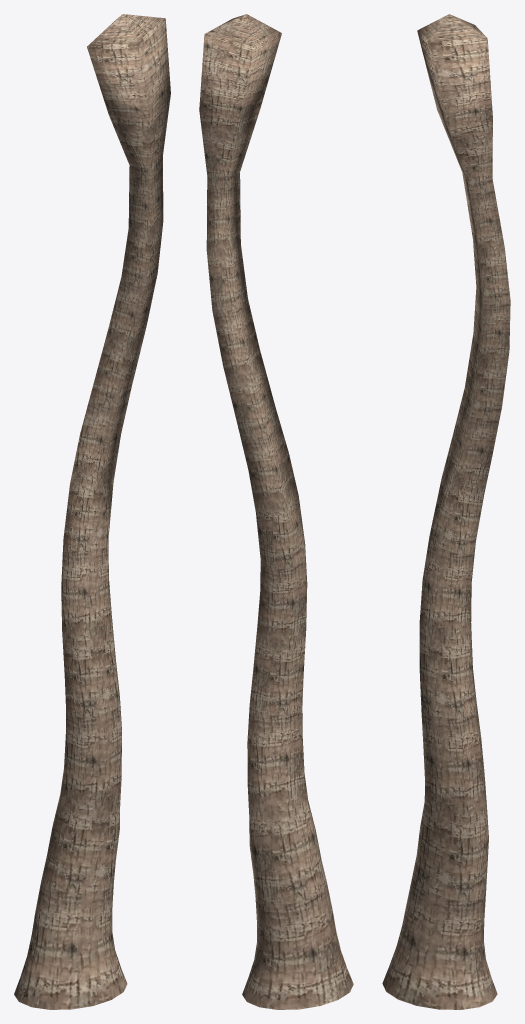
File: m_palm_p2_30_trunk_0.001_lev2.glb
3 renders of one model, left to right at view 1: azimuth 30°, elevation 25°; view 2: azimuth 210°, elevation 25°; view 3: azimuth 330°, elevation 25°, orthographic. The views are drawn at different scales.
Visible parts, largest first — view 1: m_palm_p2_30_trunk_0.001_lev2; view 2: m_palm_p2_30_trunk_0.001_lev2; view 3: m_palm_p2_30_trunk_0.001_lev2.
Part boxes in pixels (<box>): m_palm_p2_30_trunk_0.001_lev2: <box>14,14,170,1009</box>; m_palm_p2_30_trunk_0.001_lev2: <box>199,14,353,1009</box>; m_palm_p2_30_trunk_0.001_lev2: <box>382,14,510,1009</box>.
Size of the model in its own units: 0.6253 by 4.51 by 0.5101.
Materials: 1 (1 with a texture image).
